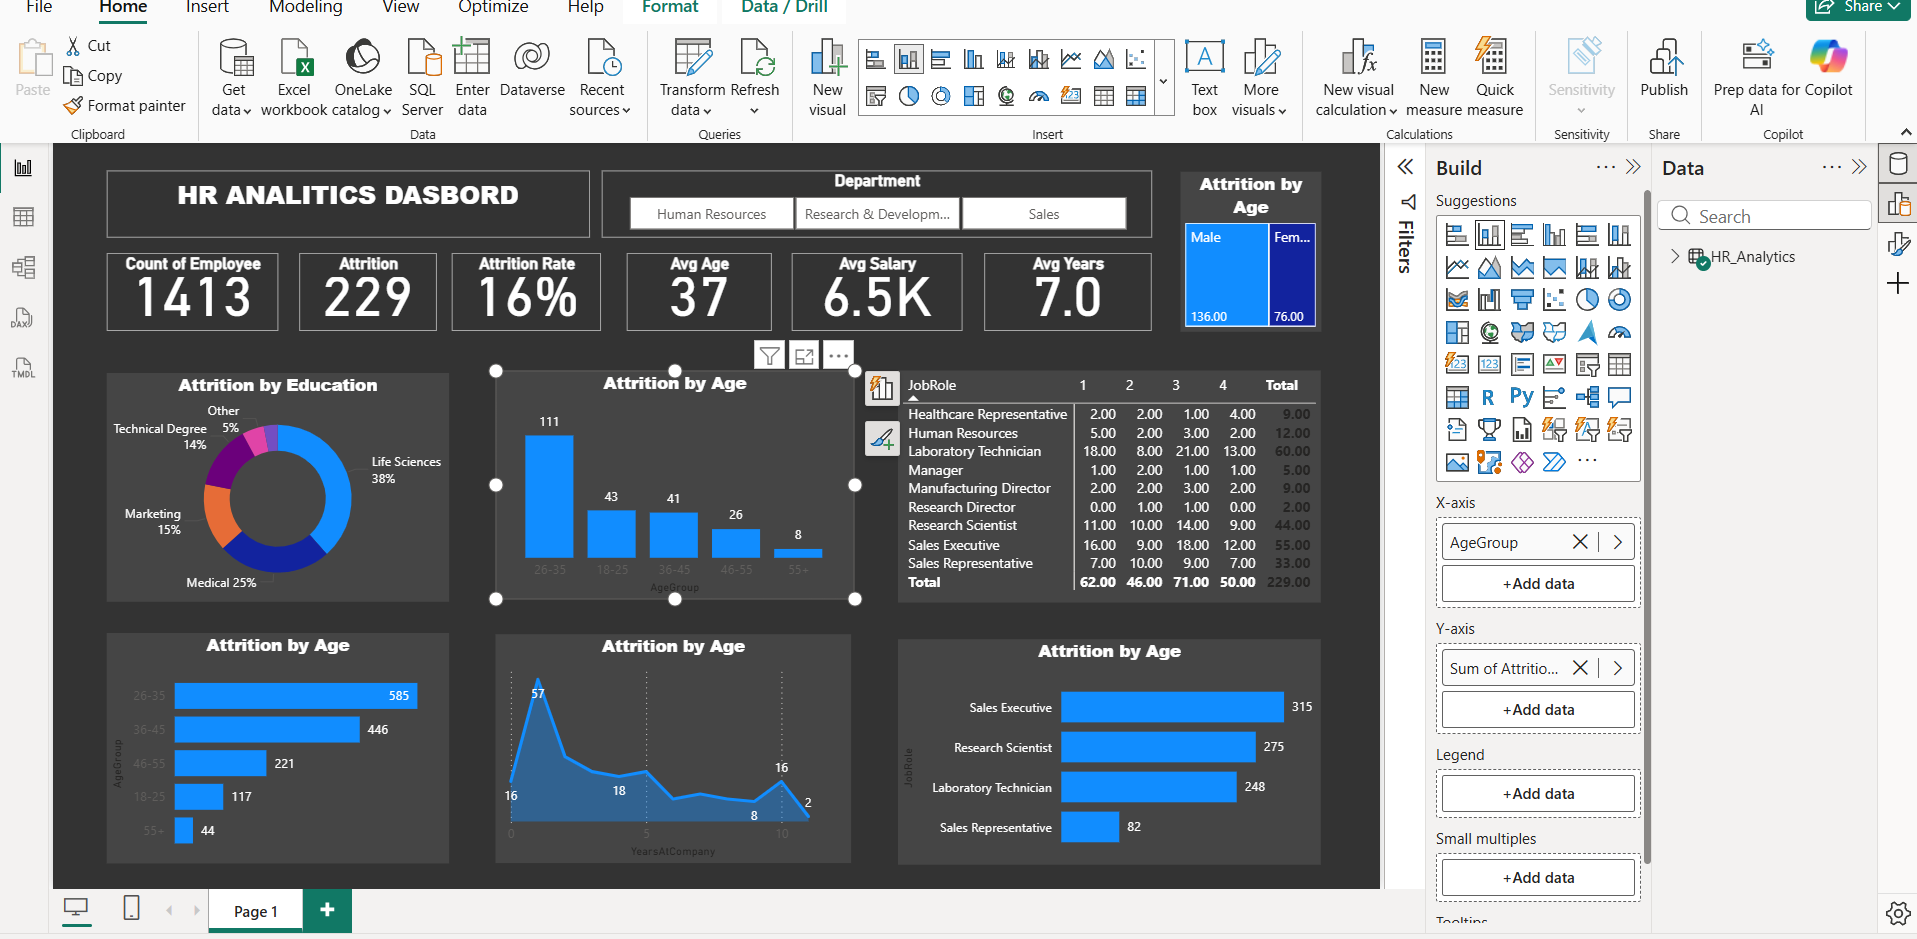

This screenshot's page, from the dashboard's own definition file:
{"tool":"powerbi","page":{"name":"Page 1","canvas":[1280,720],"ordinal":0},"visuals":[{"type":"card","title":"Count of Employee","fields":{"Values":["Count(HR_Analytics.EmpID)"]},"box":[51.9,106.8,165.9,75],"z":0},{"type":"card","title":"Attrition","fields":{"Values":["Sum(HR_Analytics.AttritionCount)"]},"box":[238.1,106.8,132.7,75],"z":1000},{"type":"card","title":"Attrition Rate","fields":{"Values":["HR_Analytics.AttritionRate"]},"box":[385.2,106.8,144.3,75],"z":2000},{"type":"card","title":"Avg Age","fields":{"Values":["Avg(HR_Analytics.Age)"]},"box":[554,106.8,139.9,75],"z":3000},{"type":"card","title":"Avg Salary","fields":{"Values":["Avg(HR_Analytics.MonthlyIncome)"]},"box":[712.7,106.8,164.5,75],"z":4000},{"type":"card","title":"Avg Years","fields":{"Values":["Avg(HR_Analytics.YearsAtCompany)"]},"box":[898.8,106.8,161.6,75],"z":5000},{"type":"donutChart","title":"Attrition by Education","fields":{"Y":["Sum(HR_Analytics.AttritionCount)"],"Category":["HR_Analytics.EducationField"]},"box":[51.9,222.2,330.4,220.7],"z":6000},{"type":"columnChart","title":"Attrition by Age","fields":{"Y":["Sum(HR_Analytics.AttritionCount)"],"Category":["HR_Analytics.AgeGroup"]},"box":[427.1,219.3,346.3,220.7],"z":7000},{"type":"pivotTable","fields":{"Rows":["HR_Analytics.JobRole"],"Columns":["HR_Analytics.JobSatisfaction"],"Values":["Sum(HR_Analytics.AttritionCount)"]},"box":[815.2,219.3,408.3,223.6],"z":8000},{"type":"barChart","title":"Attrition by Age","fields":{"Category":["HR_Analytics.AgeGroup"],"Y":["CountNonNull(HR_Analytics.SalarySlab)"]},"box":[51.9,473.2,330.4,222.2],"z":9000},{"type":"barChart","title":"Attrition by Age","fields":{"Y":["CountNonNull(HR_Analytics.SalarySlab)"],"Category":["HR_Analytics.JobRole"]},"box":[815.2,479,408.3,217.9],"z":10000},{"type":"areaChart","title":"Attrition by Age","fields":{"Category":["HR_Analytics.YearsAtCompany"],"Y":["Sum(HR_Analytics.AttritionCount)"]},"box":[427.1,474.7,343.4,220.7],"z":11000},{"type":"treemap","title":"Attrition by Age","fields":{"Group":["HR_Analytics.Gender"],"Values":["Sum(HR_Analytics.AttritionCount)"]},"box":[1087.8,27.4,135.6,154.4],"z":12000},{"type":"slicer","title":"Department","fields":{"Values":["HR_Analytics.Department"]},"box":[529.5,26,530.9,64.9],"z":13000},{"type":"textbox","box":[51.9,26,466,64.9],"z":14000}]}

Visuals, with their boxes on the page's 1280x720 design canvas (x1, y1, x2, y2). These are canvas units, not pixel positions in the 1917x939 screenshot, which may show the page scaled, cropped or inside an application window:
"Count of Employee" card: l=52, t=107, r=218, b=182
"Attrition" card: l=238, t=107, r=371, b=182
"Attrition Rate" card: l=385, t=107, r=530, b=182
"Avg Age" card: l=554, t=107, r=694, b=182
"Avg Salary" card: l=713, t=107, r=877, b=182
"Avg Years" card: l=899, t=107, r=1060, b=182
"Attrition by Education" donutChart: l=52, t=222, r=382, b=443
"Attrition by Age" columnChart: l=427, t=219, r=773, b=440
pivotTable - HR_Analytics.JobRole x HR_Analytics.JobSatisfaction: l=815, t=219, r=1224, b=443
"Attrition by Age" barChart: l=52, t=473, r=382, b=695
"Attrition by Age" barChart: l=815, t=479, r=1224, b=697
"Attrition by Age" areaChart: l=427, t=475, r=770, b=695
"Attrition by Age" treemap: l=1088, t=27, r=1223, b=182
"Department" slicer: l=530, t=26, r=1060, b=91
textbox: l=52, t=26, r=518, b=91
